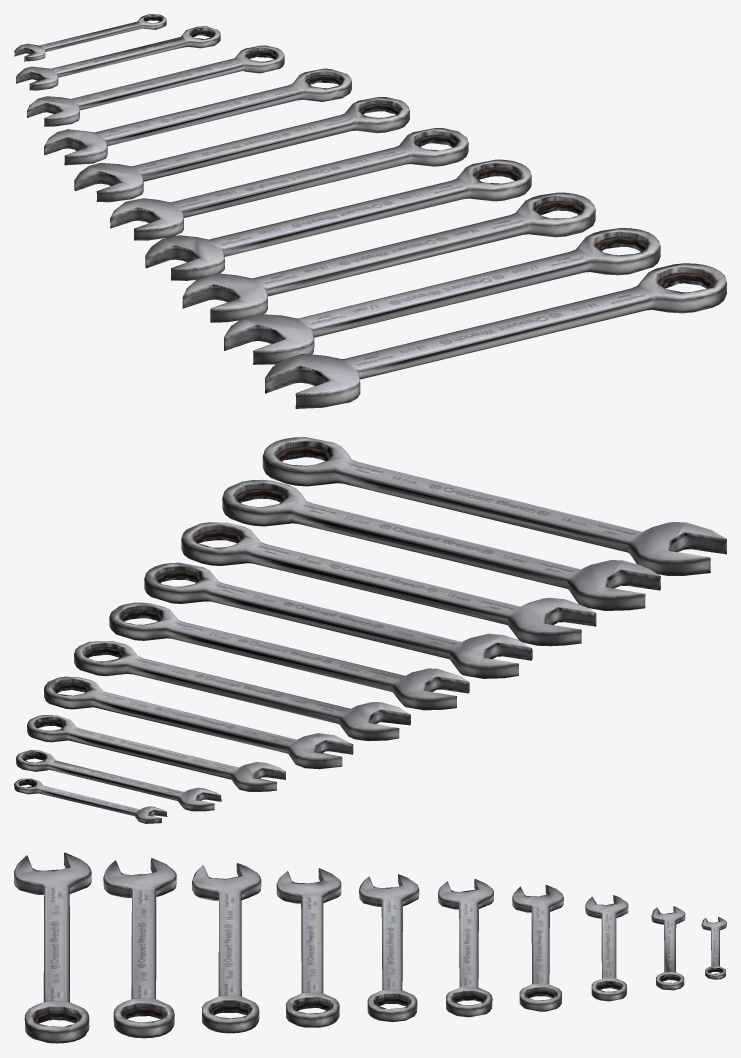
The model's file is wrenches.glb.
3 views of the same model, one above another, from view 1: azimuth 30°, elevation 25°; view 2: azimuth 150°, elevation 25°; view 3: azimuth 270°, elevation 25° (orthographic). The views are drawn at different scales.
Visible parts, largest first — view 1: Object_4; view 2: Object_4; view 3: Object_4.
Boxes of the visible parts, x1,y1,x2,y2 form: Object_4: (14, 14, 726, 408); Object_4: (14, 437, 726, 823); Object_4: (14, 852, 726, 1043).
Size of the model in its own units: 0.2389 by 0.0086 by 0.4025.
1 material, 1 textured.
